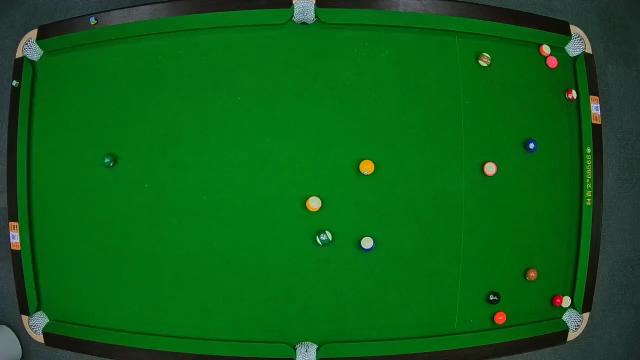bag1: (19, 38, 45, 62)
bag2: (291, 0, 317, 26)
bag3: (566, 29, 588, 57)
bag4: (22, 309, 50, 341)
bag5: (294, 340, 320, 360)
bag6: (563, 308, 585, 332)
ball0: (561, 295, 573, 309)
ball1: (359, 160, 375, 176)
ball10: (358, 234, 376, 252)
ball11: (564, 88, 578, 102)
ball12: (482, 160, 498, 176)
ball13: (538, 44, 552, 58)
ball14: (316, 230, 332, 248)
ball15: (477, 54, 491, 68)
ball2: (524, 138, 538, 154)
ball3: (550, 294, 564, 308)
ball4: (546, 56, 558, 68)
ball5: (494, 310, 508, 324)
ball6: (102, 153, 118, 169)
ball7: (526, 267, 538, 282)
ball8: (486, 290, 502, 306)
ball9: (306, 195, 322, 212)
